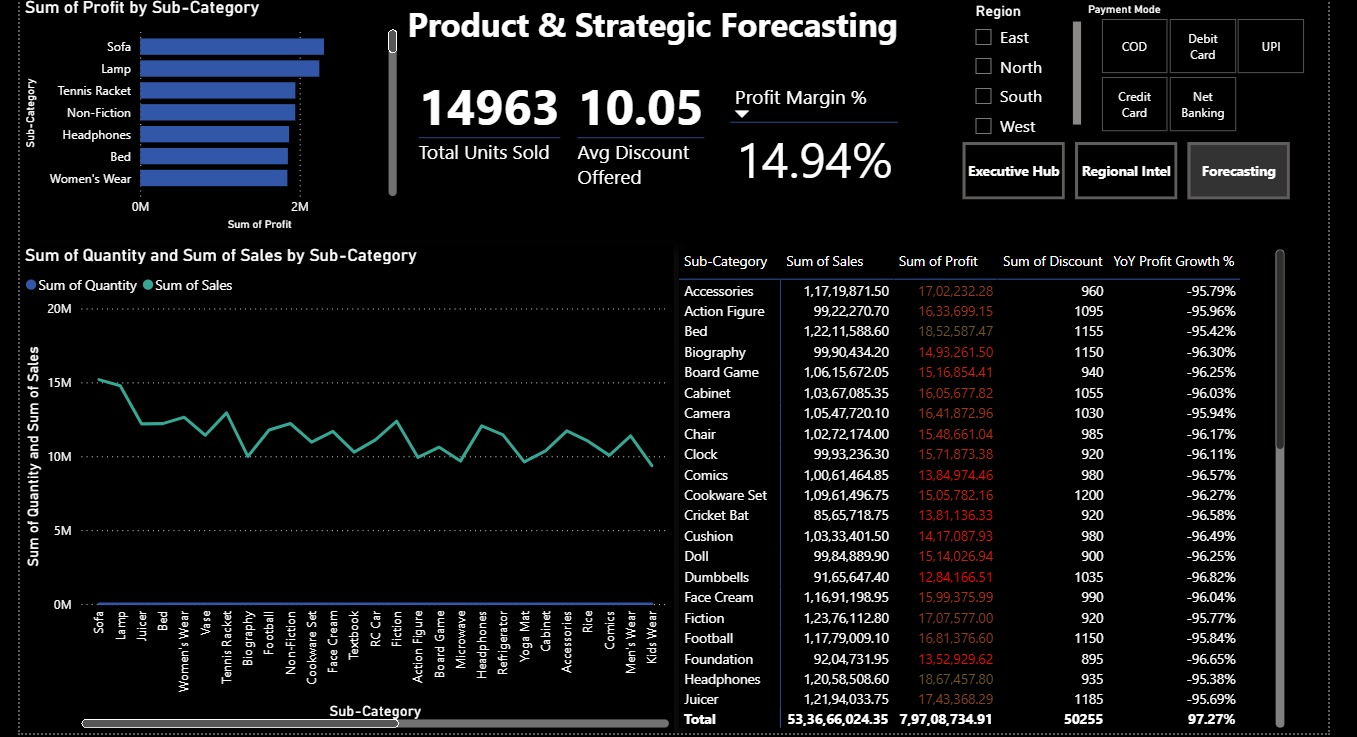

The dashboard page shown, as its layout file describes it:
{"tool":"powerbi","page":{"name":"Page 3","canvas":[1280,720],"ordinal":2},"visuals":[{"type":"clusteredBarChart","fields":{"Category":["data_source.Sub-Category"],"Y":["Sum(data_source.Profit)"]},"box":[0,0,373.8,233.8],"z":0},{"type":"textbox","box":[373.8,0,906.2,68.8],"z":1000},{"type":"slicer","fields":{"Values":["data_source.Payment Mode"]},"box":[1032.1,0,248.2,138.2],"z":2000},{"type":"slicer","fields":{"Values":["data_source.Region"]},"box":[922,0,121.1,141.8],"z":3000},{"type":"lineChart","fields":{"Category":["data_source.Sub-Category"],"Y":["Sum(data_source.Quantity)","Sum(data_source.Sales)"]},"box":[0,242.5,640,477.5],"z":4000},{"type":"textbox","box":[385,68.8,155,130],"z":5000},{"type":"textbox","box":[540,68.8,186.2,130],"z":6000},{"type":"pivotTable","fields":{"Rows":["data_source.Sub-Category"],"Values":["Sum(data_source.Sales)","Sum(data_source.Profit)","Sum(data_source.Discount)","data_source.YoY Profit Growth %"]},"box":[639.5,242.1,602.9,478.1],"z":7000},{"type":"actionButton","box":[922,141.8,100.3,56.3],"z":8000},{"type":"actionButton","box":[1032.1,141.8,100.3,56.3],"z":9000},{"type":"actionButton","box":[1142.1,141.8,100.3,56.3],"z":10000},{"type":"tableEx","fields":{"Values":["data_source.Profit Margin %"]},"box":[688.5,78.3,233.6,119.8],"z":11000}]}

Visuals, with their boxes on the page's 1280x720 design canvas (x1, y1, x2, y2). These are canvas units, not pixel positions in the 1357x737 screenshot, which may show the page scaled, cropped or inside an application window:
clusteredBarChart - data_source.Sub-Category x Sum(data_source.Profit): pyautogui.locateOnScreen(0, 0, 374, 234)
textbox: pyautogui.locateOnScreen(374, 0, 1280, 69)
slicer - data_source.Payment Mode: pyautogui.locateOnScreen(1032, 0, 1280, 138)
slicer - data_source.Region: pyautogui.locateOnScreen(922, 0, 1043, 142)
lineChart - data_source.Sub-Category x Sum(data_source.Quantity): pyautogui.locateOnScreen(0, 242, 640, 720)
textbox: pyautogui.locateOnScreen(385, 69, 540, 199)
textbox: pyautogui.locateOnScreen(540, 69, 726, 199)
pivotTable - data_source.Sub-Category x Sum(data_source.Sales): pyautogui.locateOnScreen(640, 242, 1242, 720)
actionButton: pyautogui.locateOnScreen(922, 142, 1022, 198)
actionButton: pyautogui.locateOnScreen(1032, 142, 1132, 198)
actionButton: pyautogui.locateOnScreen(1142, 142, 1242, 198)
tableEx - data_source.Profit Margin %: pyautogui.locateOnScreen(688, 78, 922, 198)
